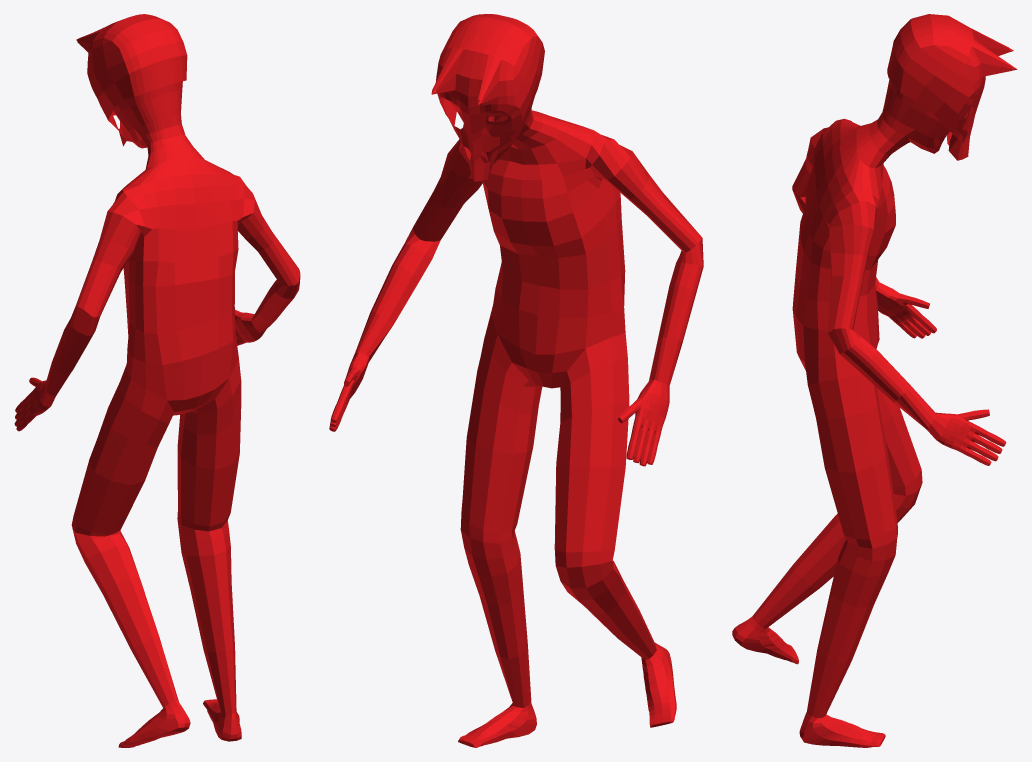
The model's file is marchaE_000059.obj.
3 renders of one model, left to right at view 1: azimuth 30°, elevation 25°; view 2: azimuth 150°, elevation 25°; view 3: azimuth 270°, elevation 25°, orthographic. The views are drawn at different scales.
Visible parts, largest first — view 1: Plane.002_Plane.001; view 2: Plane.002_Plane.001; view 3: Plane.002_Plane.001.
Part boxes in pixels (x1,y1,x2,y2): Plane.002_Plane.001: (14,14,300,747); Plane.002_Plane.001: (329,14,703,747); Plane.002_Plane.001: (732,14,1017,747).
Size of the model in its own units: 2.67 by 6.76 by 2.48.
